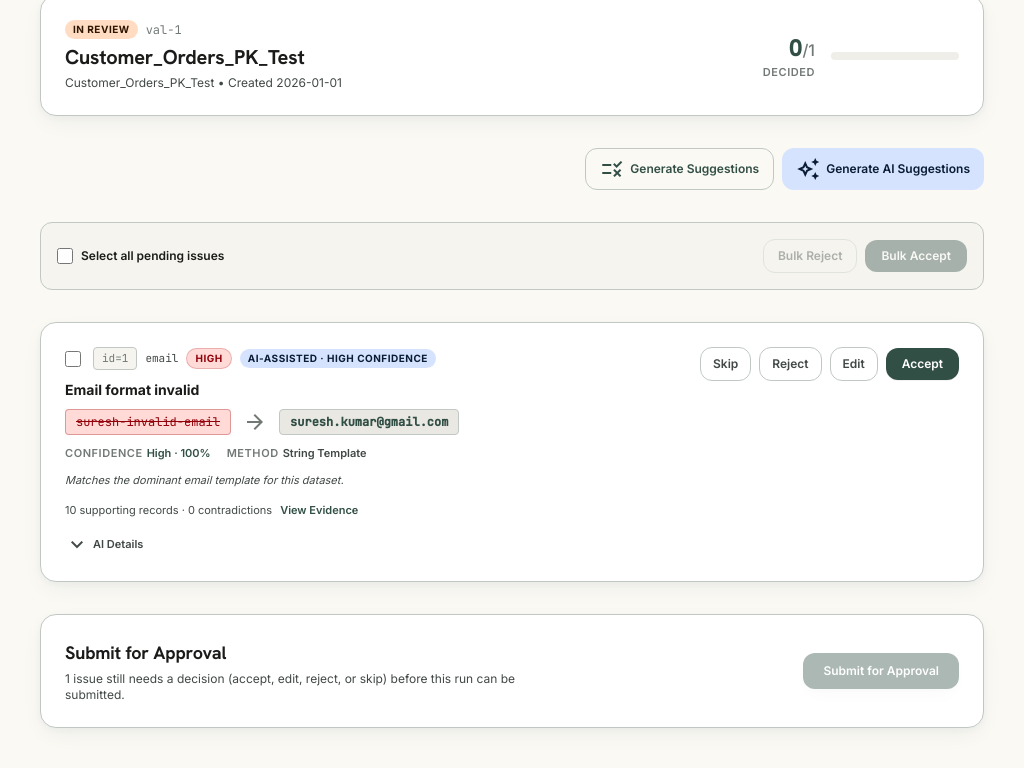
Scenario: ReviewCorrectionsView — AI Details (AI Trace) › renders a truthful failure state for a failed AI attempt, never "Deterministic"
(page scrolled)
What coordinates should you click on to do the following:
click the button "AI Details"
I would click on:
 (104, 544)
Its box is [65,532,143,556].
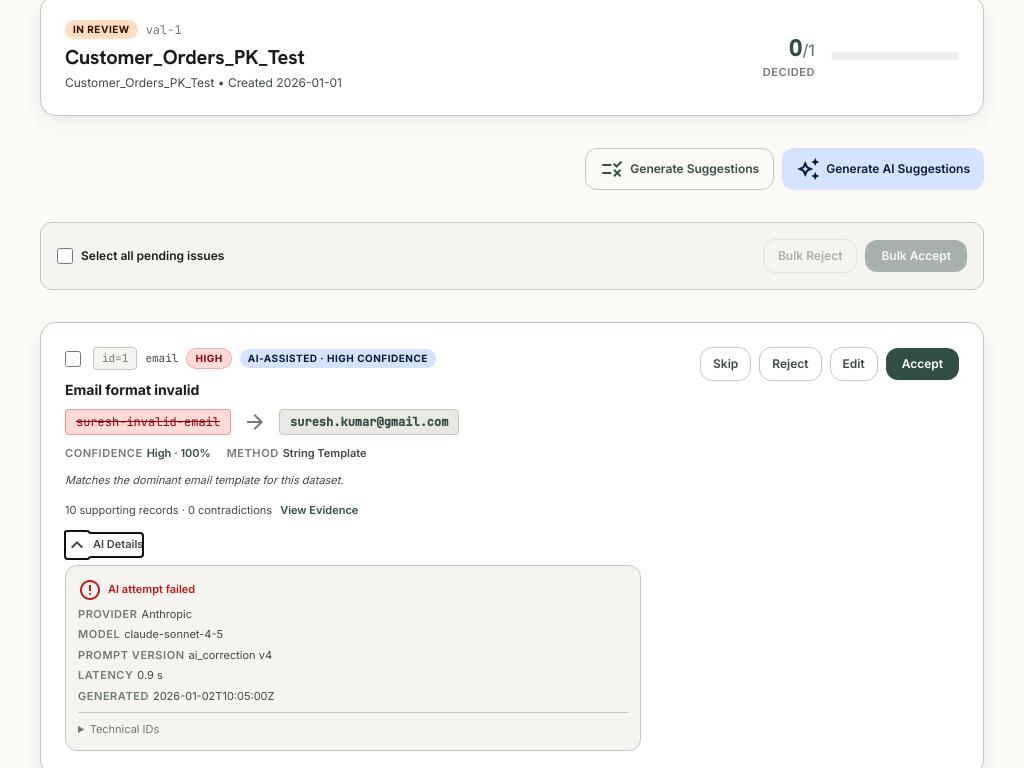
Expected: the text "AI attempt failed" is shown, [78,576,195,604]
